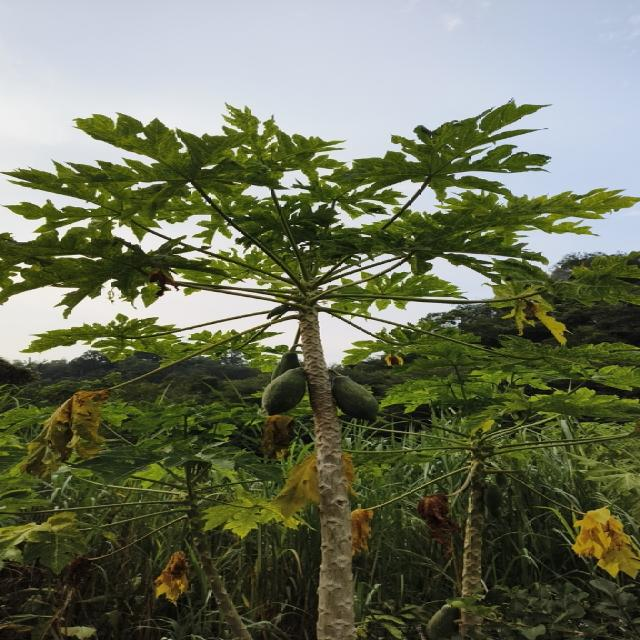Papaya-Tree: (12, 89, 584, 640)
